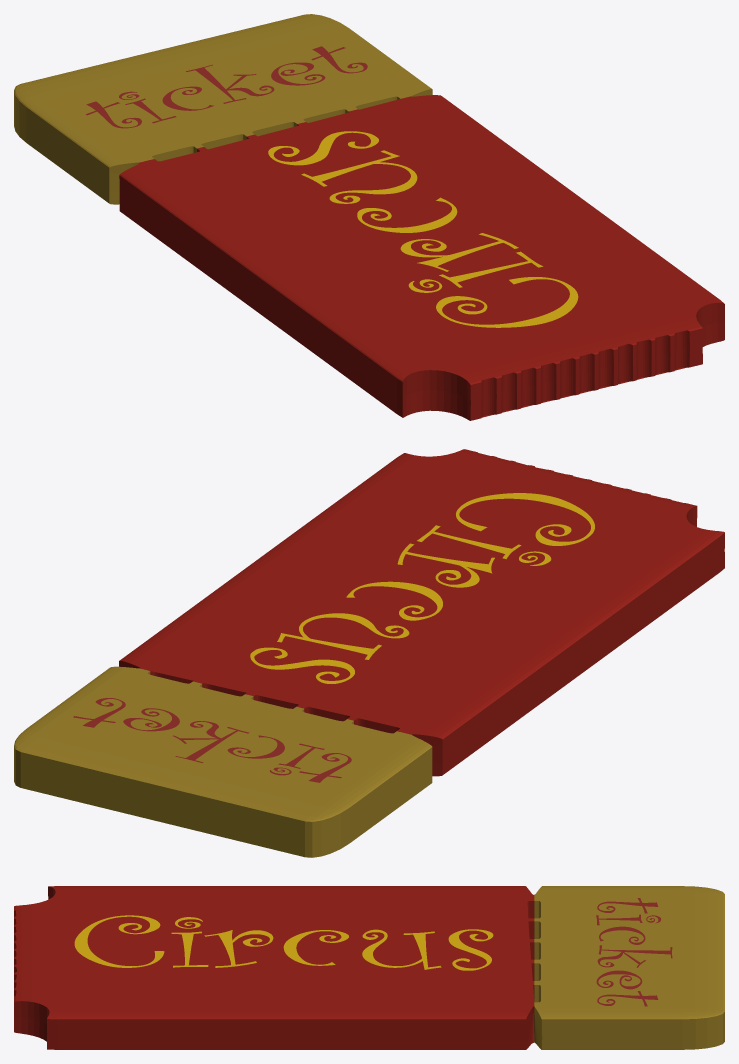
3 renders of one model, top to bottom at view 1: azimuth 30°, elevation 25°; view 2: azimuth 150°, elevation 25°; view 3: azimuth 270°, elevation 25°, orthographic. The views are drawn at different scales.
Visible parts, largest first — view 1: Cube, Cube.001, Circus, Текст; view 2: Cube, Cube.001, Circus, Текст; view 3: Cube, Cube.001, Circus, Текст.
Boxes of the visible parts, bbox=[...] form: Cube: bbox=[119, 95, 724, 420]; Cube.001: bbox=[14, 14, 432, 204]; Circus: bbox=[268, 131, 578, 327]; Текст: bbox=[86, 46, 367, 128]; Cube: bbox=[119, 449, 724, 776]; Cube.001: bbox=[14, 666, 432, 857]; Circus: bbox=[250, 493, 594, 683]; Текст: bbox=[73, 698, 351, 782]; Cube: bbox=[14, 886, 534, 1049]; Cube.001: bbox=[534, 886, 724, 1049]; Circus: bbox=[74, 915, 493, 970]; Текст: bbox=[596, 898, 672, 1006].
Bounding box in the file's own units: 88.56 × 12.36 × 200.
